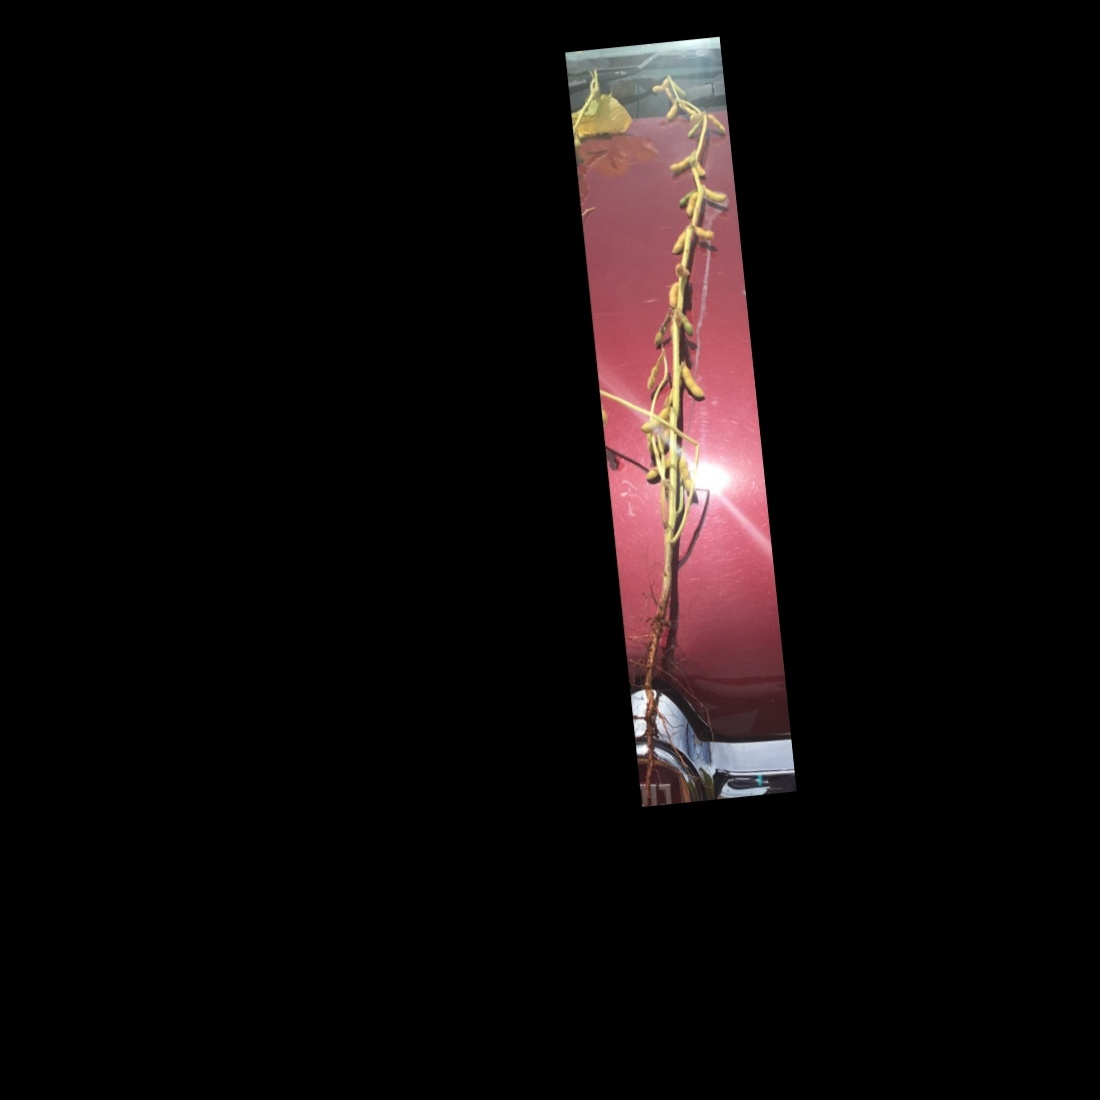pod: (679, 357, 708, 404), (637, 405, 671, 436), (640, 353, 666, 391), (677, 454, 696, 500), (705, 106, 728, 139), (665, 227, 687, 257), (702, 182, 728, 205), (692, 222, 719, 243), (665, 153, 692, 172), (662, 99, 681, 123), (647, 76, 672, 94), (679, 312, 696, 338), (683, 119, 703, 141)
soy: (568, 61, 783, 743)
